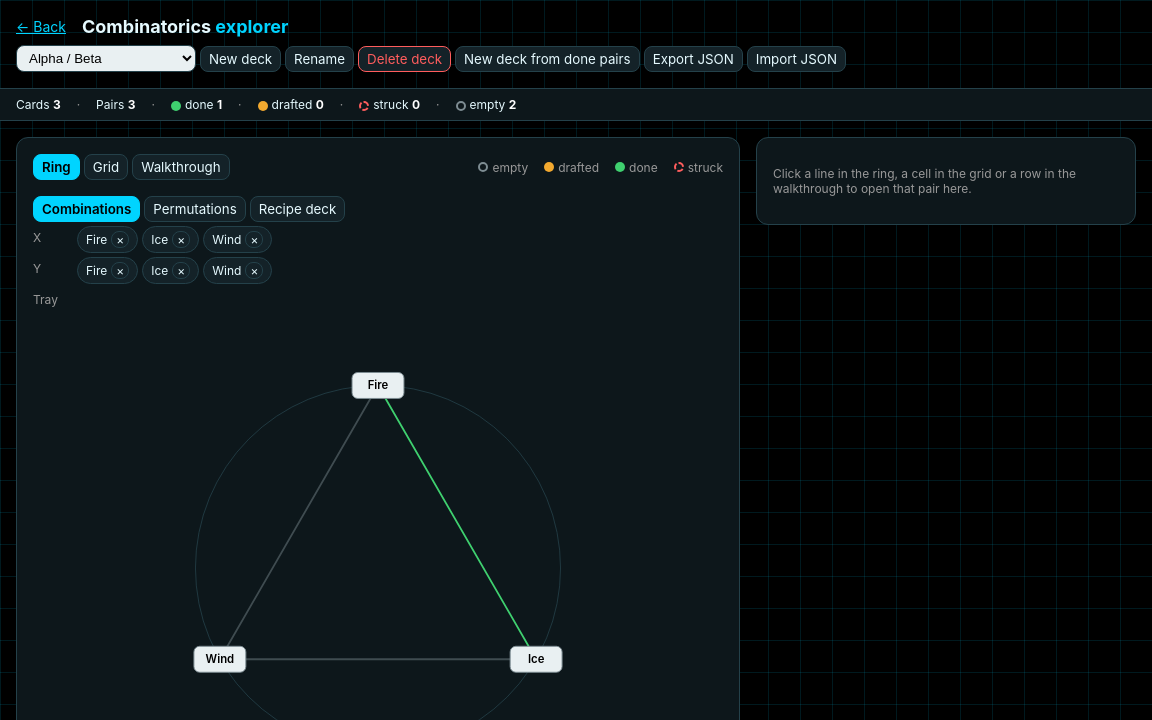
Test: CombinationsPage promote › opens the new deck and toasts its card count
Click the button "New deck from done pairs". click: {"x": 547, "y": 58}
box: [455, 46, 640, 72]
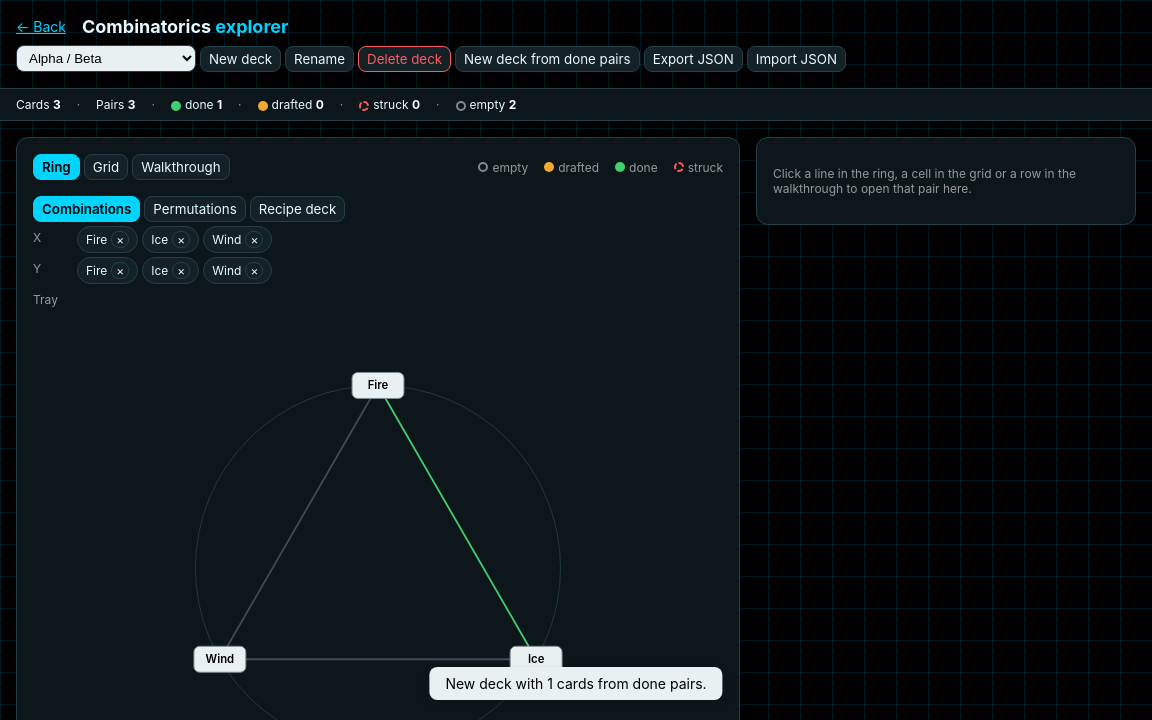
Check: the text "New deck with 1 cards from done pairs." is shown, box [429, 667, 723, 700]
